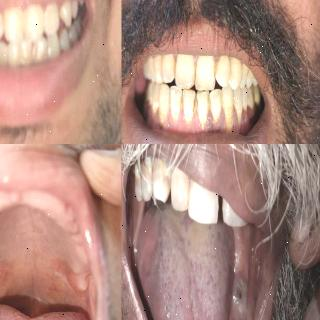calculus: (148, 152, 175, 185), (180, 175, 196, 213), (27, 3, 46, 33), (128, 156, 144, 187), (6, 7, 24, 34), (139, 154, 153, 180), (31, 42, 46, 66), (18, 42, 32, 65), (6, 49, 18, 69), (56, 5, 68, 23), (0, 52, 4, 70)
stains: (188, 60, 199, 90), (229, 57, 241, 83), (190, 94, 202, 120), (211, 56, 223, 81), (170, 52, 180, 78), (204, 94, 214, 120), (177, 93, 187, 115)
